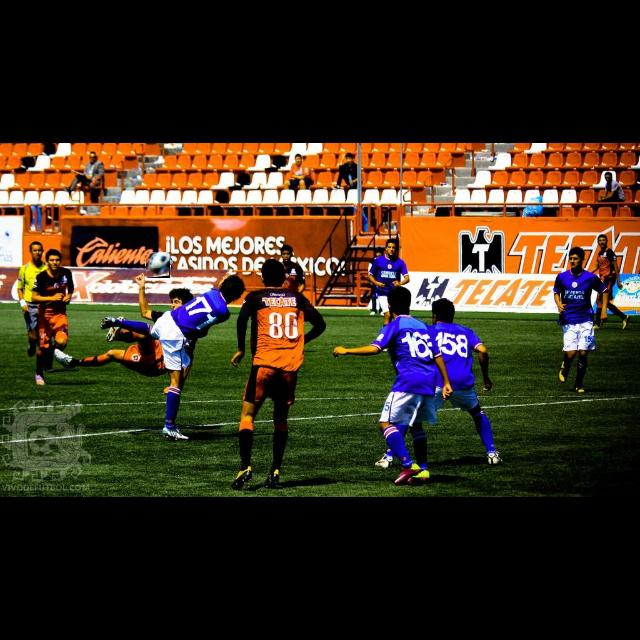Football: (146, 252, 170, 278)
